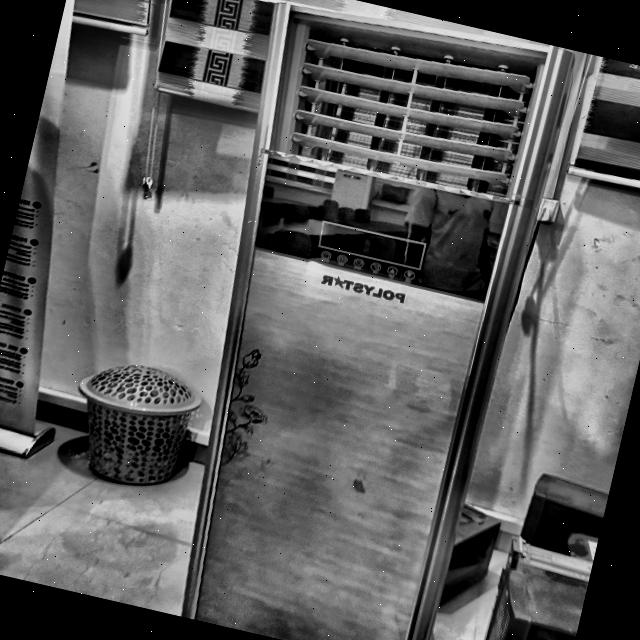air condition: (165, 0, 590, 640)
wastebin: (50, 336, 207, 497)
